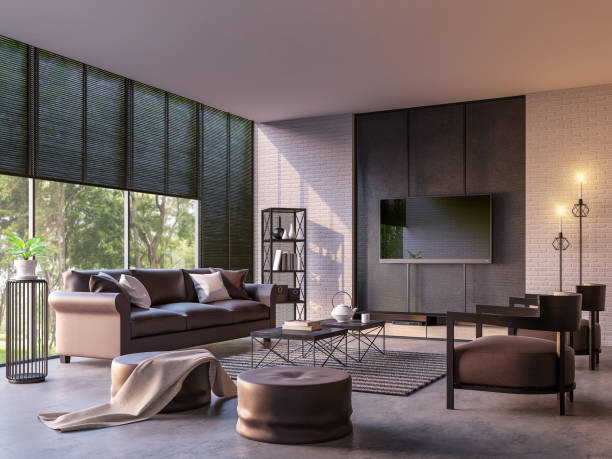TV: (376, 193, 493, 267)
chair: (442, 289, 583, 417), (508, 281, 606, 370)
small plant: (4, 234, 53, 279)
sofa: (48, 264, 281, 364)
table: (248, 324, 349, 367), (315, 315, 389, 360)
